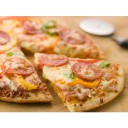pepperonipizza: (1, 16, 125, 107)
